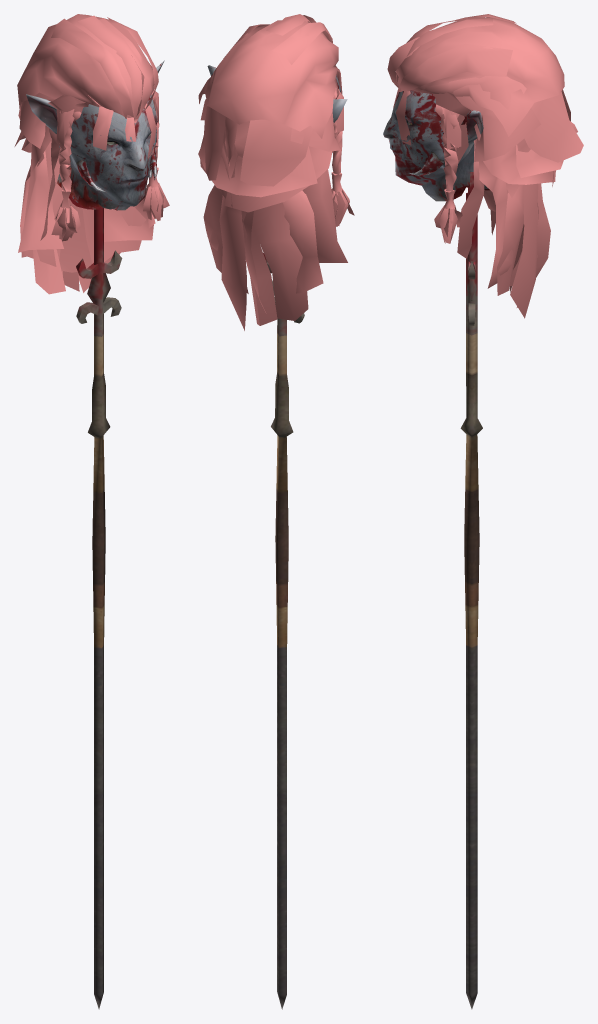
File: dddddfbx.fbx
3 renders of one model, left to right at view 1: azimuth 30°, elevation 25°; view 2: azimuth 150°, elevation 25°; view 3: azimuth 270°, elevation 25°, orthographic.
Parts seen in each view (by area): view 1: DLV_Shakara_Object_ScuSpear01_SM_YHY; view 2: DLV_Shakara_Object_ScuSpear01_SM_YHY; view 3: DLV_Shakara_Object_ScuSpear01_SM_YHY.
Boxes of the visible parts, x1,y1,x2,y2 form: DLV_Shakara_Object_ScuSpear01_SM_YHY: (14, 14, 169, 1009); DLV_Shakara_Object_ScuSpear01_SM_YHY: (198, 14, 354, 1009); DLV_Shakara_Object_ScuSpear01_SM_YHY: (383, 14, 583, 1009).
Bounding box in the file's own units: 0.0726 × 0.476 × 0.0877.
